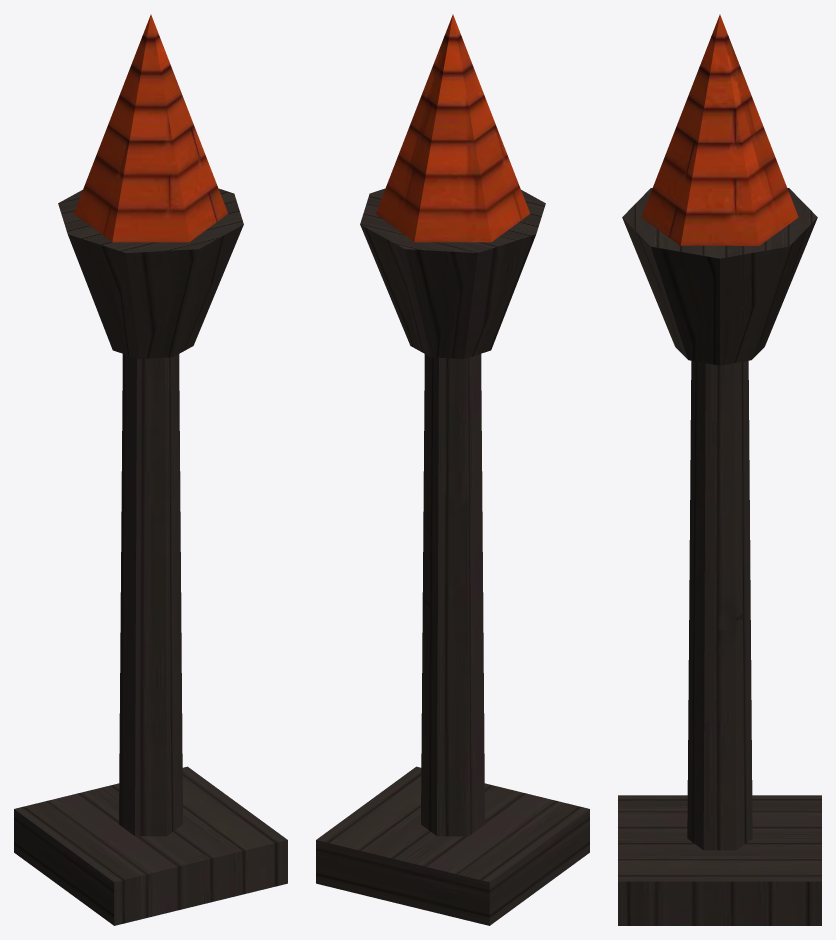
Rendered from torch_stand_01.glb.
3 views of the same model, side by side, from view 1: azimuth 30°, elevation 25°; view 2: azimuth 150°, elevation 25°; view 3: azimuth 270°, elevation 25° (orthographic).
Parts seen in each view (by area): view 1: torch_stand_01; view 2: torch_stand_01; view 3: torch_stand_01.
Boxes of the visible parts, x1,y1,x2,y2 form: torch_stand_01: (14, 14, 287, 925); torch_stand_01: (316, 14, 589, 925); torch_stand_01: (618, 14, 821, 925).
Size of the model in its own units: 0.5 by 2.35 by 0.5.
2 materials, 2 textured.
